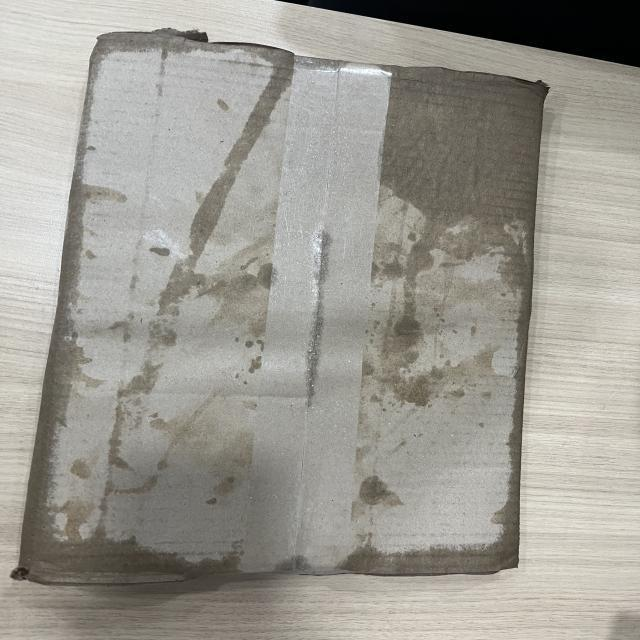wet: (360, 67, 521, 580)
